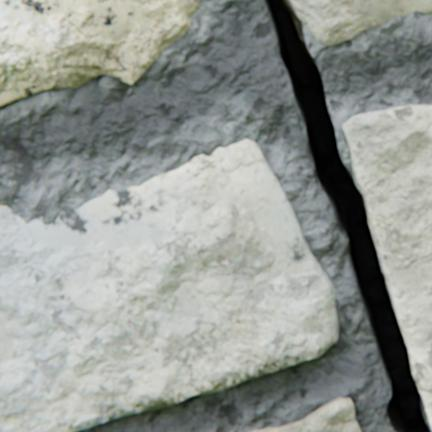brick: (0, 139, 338, 431), (342, 105, 431, 428), (0, 0, 202, 107), (291, 0, 431, 46), (248, 396, 361, 431)
crack: (265, 0, 430, 431)
